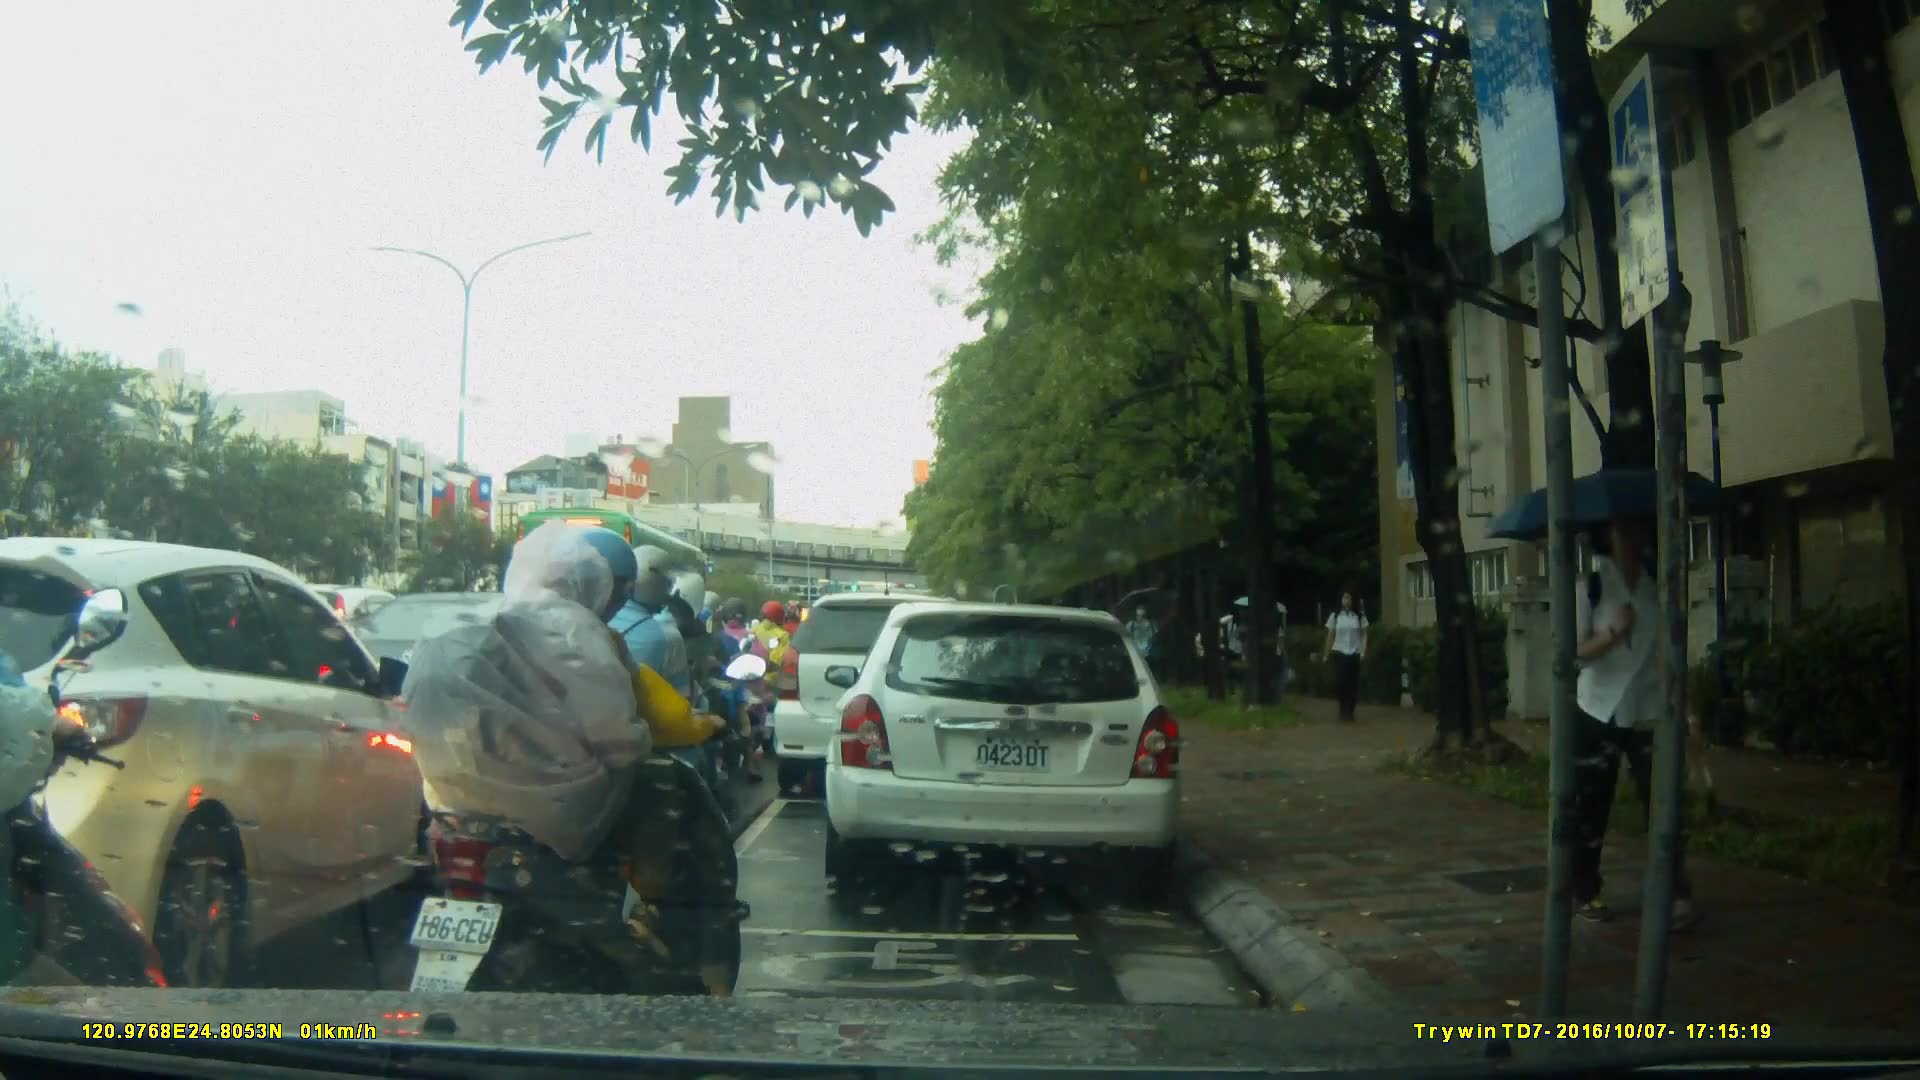pedestrian: (1565, 507, 1719, 937), (1317, 590, 1373, 726), (1122, 594, 1159, 704)
rider: (393, 514, 753, 1073), (1, 585, 177, 1080), (541, 546, 732, 887), (608, 570, 744, 864), (705, 601, 780, 765), (750, 603, 807, 744)
vehicle: (1, 536, 442, 988), (822, 604, 1186, 881), (774, 595, 995, 802), (524, 509, 731, 668)
